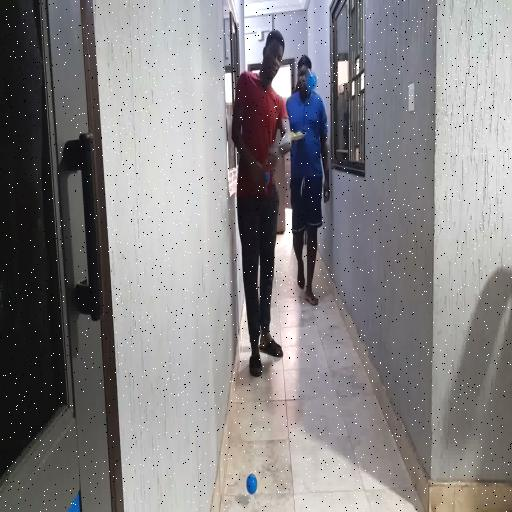plastic-ball: (304, 65, 319, 96)
